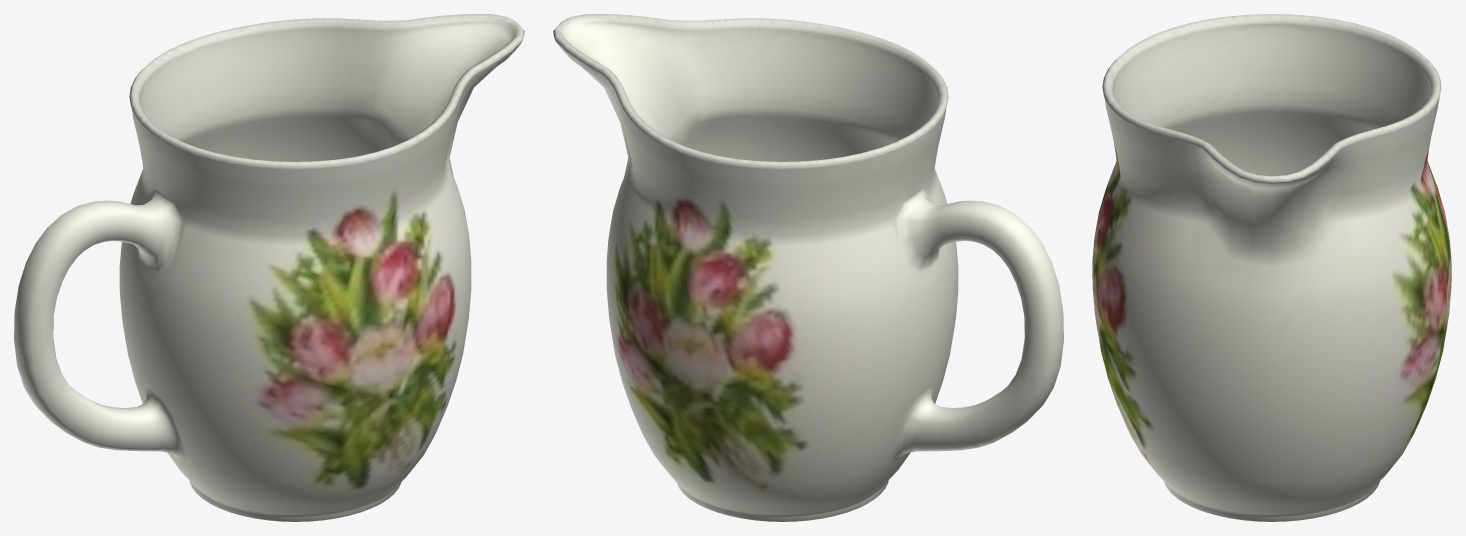
The model's file is jug_01.glb.
3 views of the same model, side by side, from view 1: azimuth 30°, elevation 25°; view 2: azimuth 150°, elevation 25°; view 3: azimuth 270°, elevation 25° (orthographic). The views are drawn at different scales.
Bounding box in the file's own units: 0.2753 × 0.2113 × 0.1675.
Materials: 1 (1 with a texture image).
